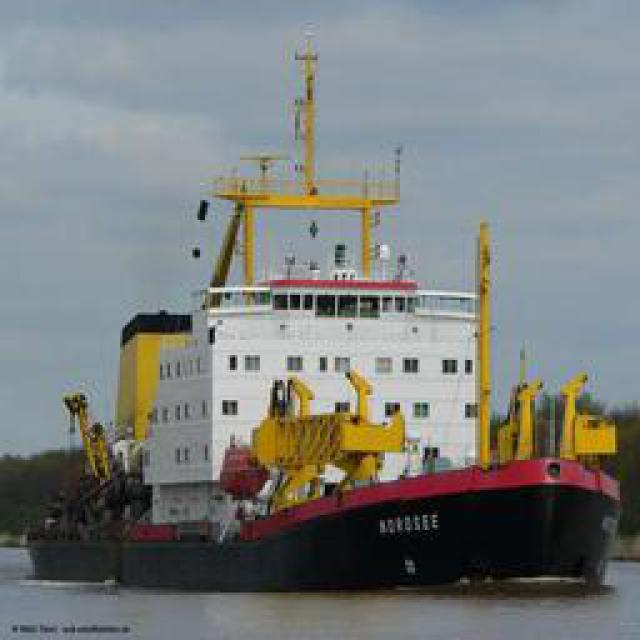Ship: (61, 30, 616, 590)
